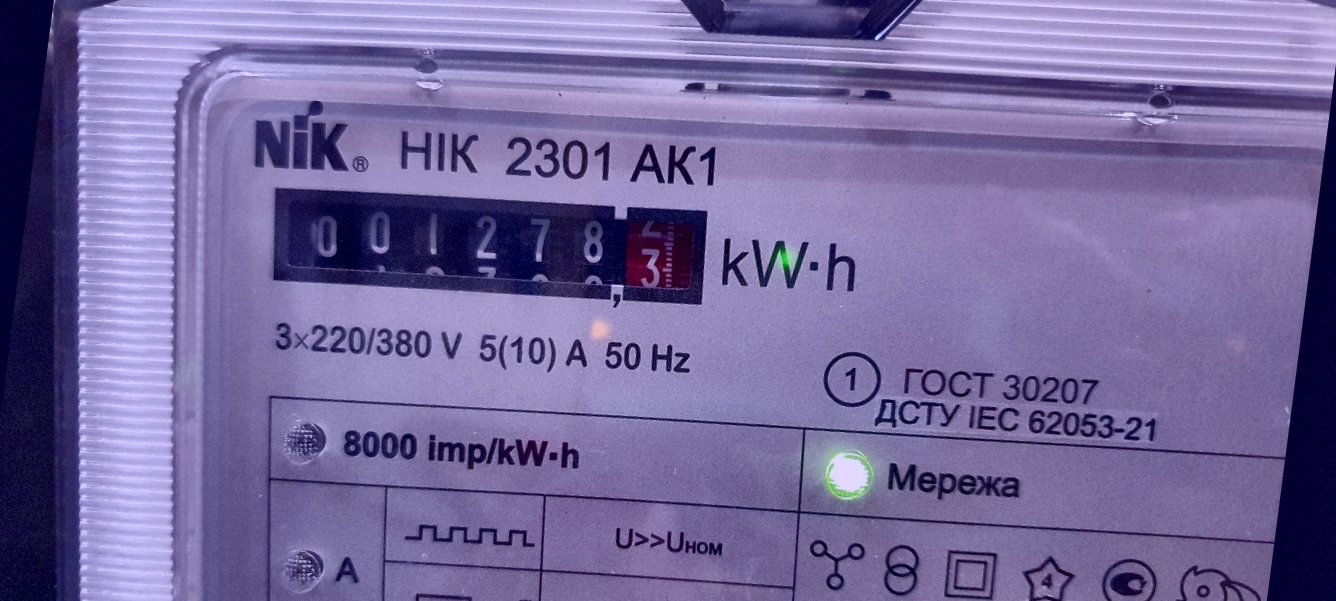0: (311, 209, 343, 260), (363, 207, 395, 257)
1: (421, 208, 445, 256)
2: (470, 213, 502, 262), (638, 217, 664, 239)
3: (633, 244, 665, 291)
7: (523, 214, 551, 263)
8: (578, 218, 608, 264)
screen: (248, 142, 731, 348)
